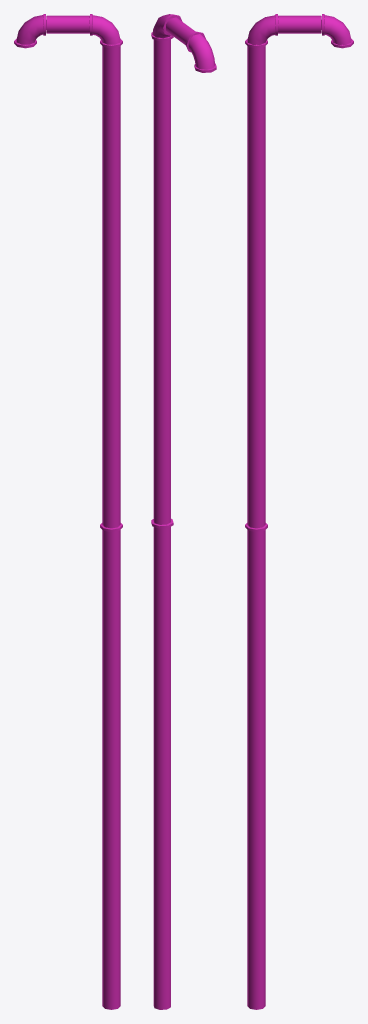
File: Pipe_01_Lod1.fbx
3 views of the same model, side by side, from view 1: azimuth 90°, elevation 25°; view 2: azimuth 210°, elevation 25°; view 3: azimuth 270°, elevation 25° (orthographic).
Visible parts, largest first — view 1: Pipe_01_Lod1; view 2: Pipe_01_Lod1; view 3: Pipe_01_Lod1.
Part boxes in pixels (x1,y1,x2,y2): Pipe_01_Lod1: (14, 14, 122, 1009); Pipe_01_Lod1: (151, 14, 216, 1009); Pipe_01_Lod1: (245, 14, 353, 1009).
Size of the model in its own units: 313 by 14897 by 1482.
